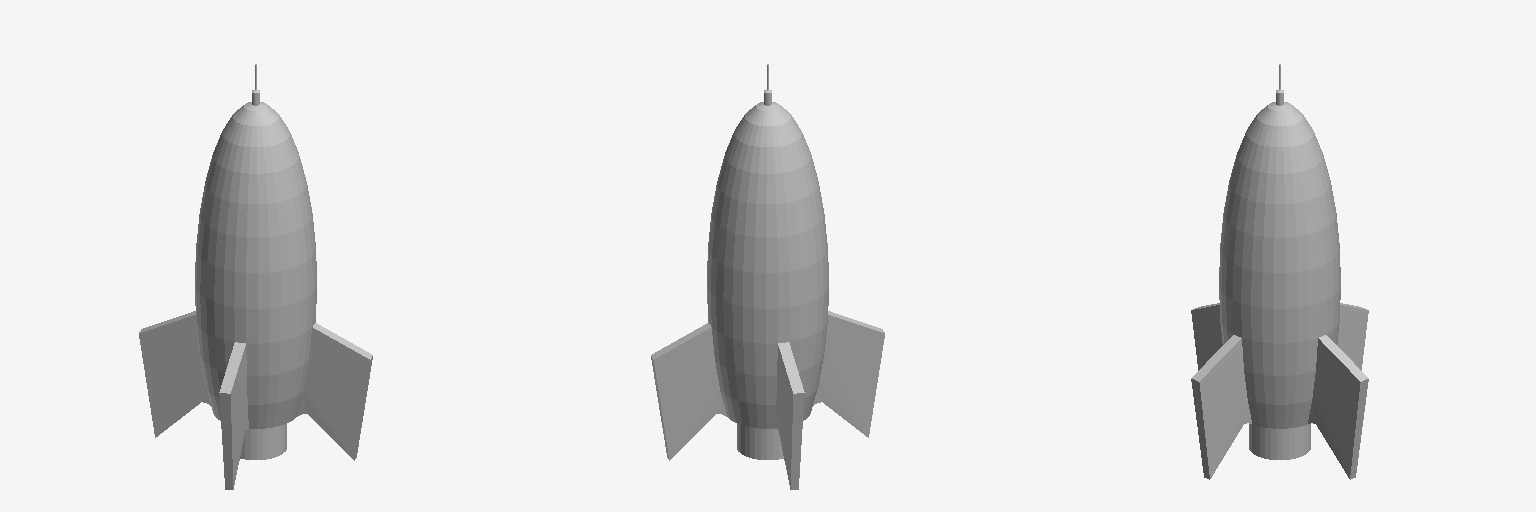
Rendered from apolo_obj.obj.
3 renders of one model, left to right at view 1: azimuth 30°, elevation 25°; view 2: azimuth 150°, elevation 25°; view 3: azimuth 270°, elevation 25°, orthographic.
Bounding box in the file's own units: 3.86 × 9.2 × 3.86.